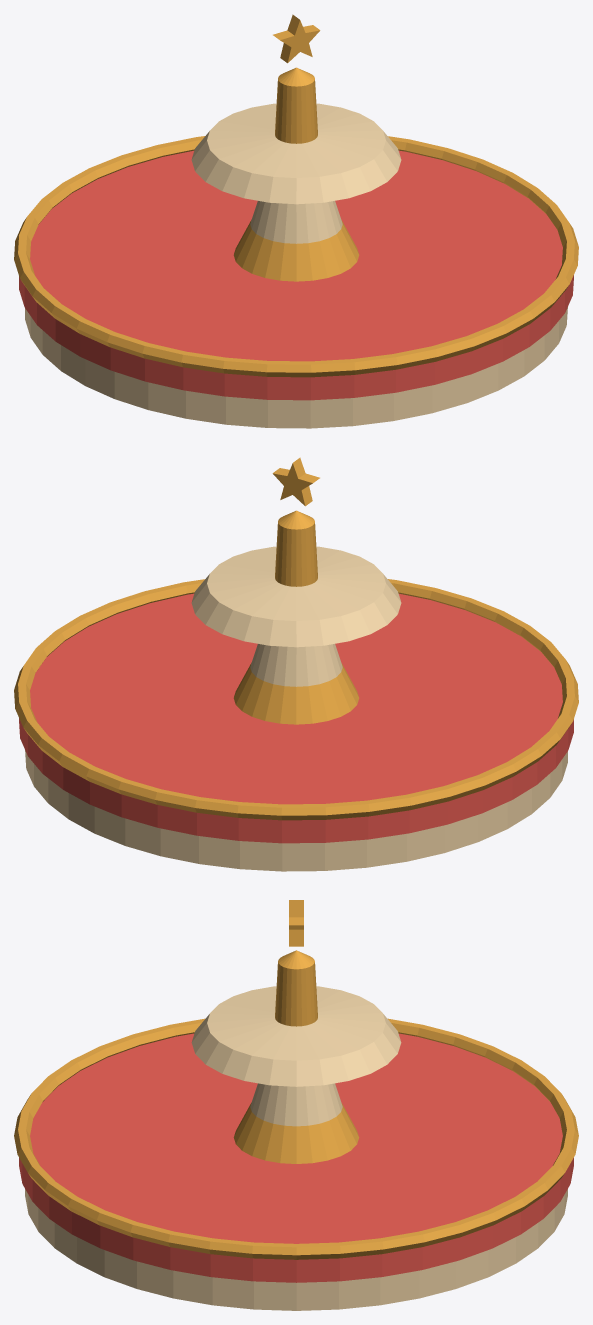
Rendered from ParkParkDecorFountain.obj.
The picture shows the model from 3 angles, top to bottom: view 1: azimuth 30°, elevation 25°; view 2: azimuth 150°, elevation 25°; view 3: azimuth 270°, elevation 25°; orthographic projection.
Parts seen in each view (by area): view 1: ParkParkDecorFountain; view 2: ParkParkDecorFountain; view 3: ParkParkDecorFountain.
Boxes of the visible parts, left/top/right/bottom form: ParkParkDecorFountain: left=14, top=14, right=578, bottom=428; ParkParkDecorFountain: left=14, top=457, right=578, bottom=871; ParkParkDecorFountain: left=14, top=900, right=578, bottom=1310.
Size of the model in its own units: 9.16 by 5.3 by 9.16.
